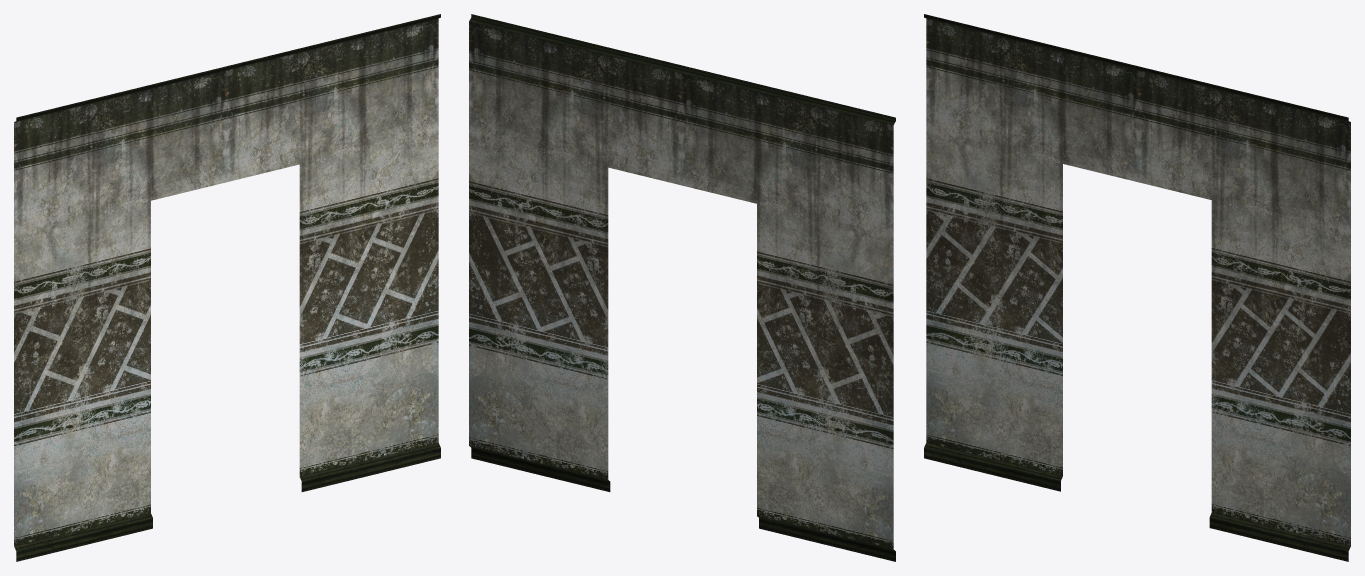
Rendered from waitingroom_damaged_flat_doorway02.dae.
3 views of the same model, side by side, from view 1: azimuth 30°, elevation 25°; view 2: azimuth 150°, elevation 25°; view 3: azimuth 330°, elevation 25° (orthographic).
Parts seen in each view (by area): view 1: polySurface7; view 2: polySurface7; view 3: polySurface7.
Part boxes in pixels (left/top/right/bottom): polySurface7: left=14, top=14, right=440, bottom=561; polySurface7: left=469, top=14, right=895, bottom=561; polySurface7: left=924, top=14, right=1350, bottom=561.
Bounding box in the file's own units: 4 × 4 × 0.0341.
